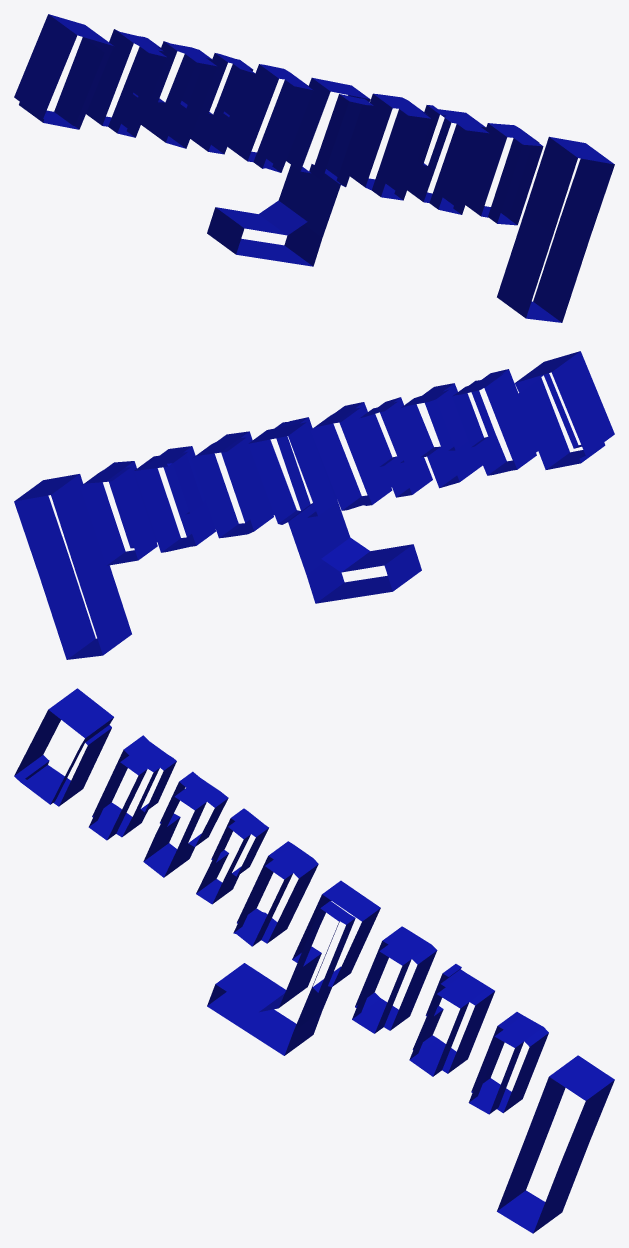
The model's file is Wall_Hini_2.0_Slope_2.5.obj.
The picture shows the model from 3 angles, top to bottom: view 1: azimuth 30°, elevation 25°; view 2: azimuth 150°, elevation 25°; view 3: azimuth 330°, elevation 25°; orthographic projection.
Parts seen in each view (by area): view 1: 1, 5, 10, 7, 3, 4, 9, 2, 8, 6; view 2: 5, 1, 10, 4, 3, 9, 2, 7, 8, 6; view 3: 5, 1, 10, 4, 3, 2, 9, 7, 8, 6.
Part boxes in pixels (left/top/right/bottom): 1: left=497, top=136, right=614, bottom=322; 5: left=207, top=77, right=373, bottom=266; 10: left=14, top=14, right=114, bottom=129; 7: left=227, top=64, right=313, bottom=172; 3: left=350, top=93, right=431, bottom=200; 4: left=407, top=105, right=489, bottom=214; 9: left=86, top=29, right=167, bottom=137; 2: left=465, top=123, right=543, bottom=225; 8: left=141, top=41, right=217, bottom=148; 6: left=190, top=53, right=255, bottom=154; 5: left=248, top=417, right=421, bottom=603; 1: left=14, top=474, right=131, bottom=659; 10: left=514, top=351, right=614, bottom=469; 4: left=133, top=446, right=216, bottom=552; 3: left=191, top=431, right=274, bottom=538; 9: left=452, top=369, right=537, bottom=475; 2: left=80, top=461, right=157, bottom=565; 7: left=310, top=402, right=392, bottom=510; 8: left=400, top=383, right=482, bottom=488; 6: left=359, top=397, right=432, bottom=497; 5: left=207, top=880, right=380, bottom=1055; 1: left=497, top=1055, right=614, bottom=1233; 10: left=14, top=688, right=113, bottom=806; 4: left=409, top=964, right=494, bottom=1076; 3: left=352, top=926, right=437, bottom=1033; 2: left=468, top=1012, right=548, bottom=1114; 9: left=88, top=735, right=176, bottom=840; 7: left=233, top=841, right=318, bottom=946; 8: left=143, top=771, right=228, bottom=877; 6: left=196, top=808, right=268, bottom=904.
Size of the model in its own units: 136 by 92 by 12.
